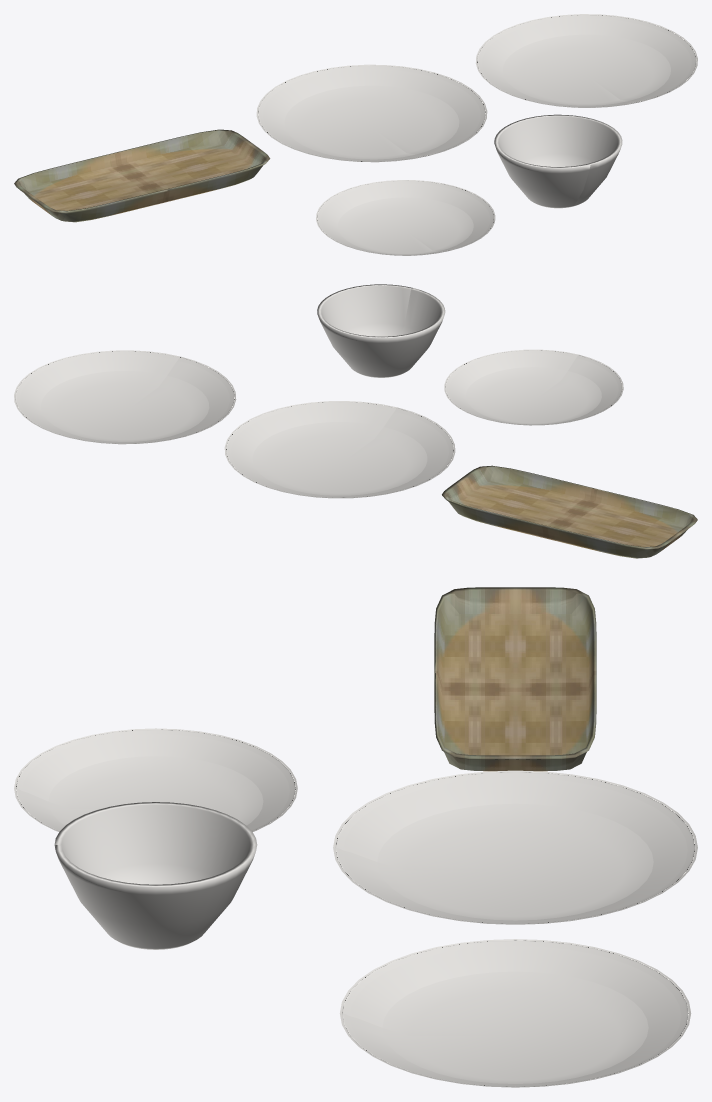
Rendered from FLO-02.glb.
3 views of the same model, one above another, from view 1: azimuth 30°, elevation 25°; view 2: azimuth 150°, elevation 25°; view 3: azimuth 270°, elevation 25° (orthographic). The views are drawn at different scales.
Bounding box in the file's own units: 0.88 × 0.07 × 0.506.
Materials: 5 (1 with a texture image).
